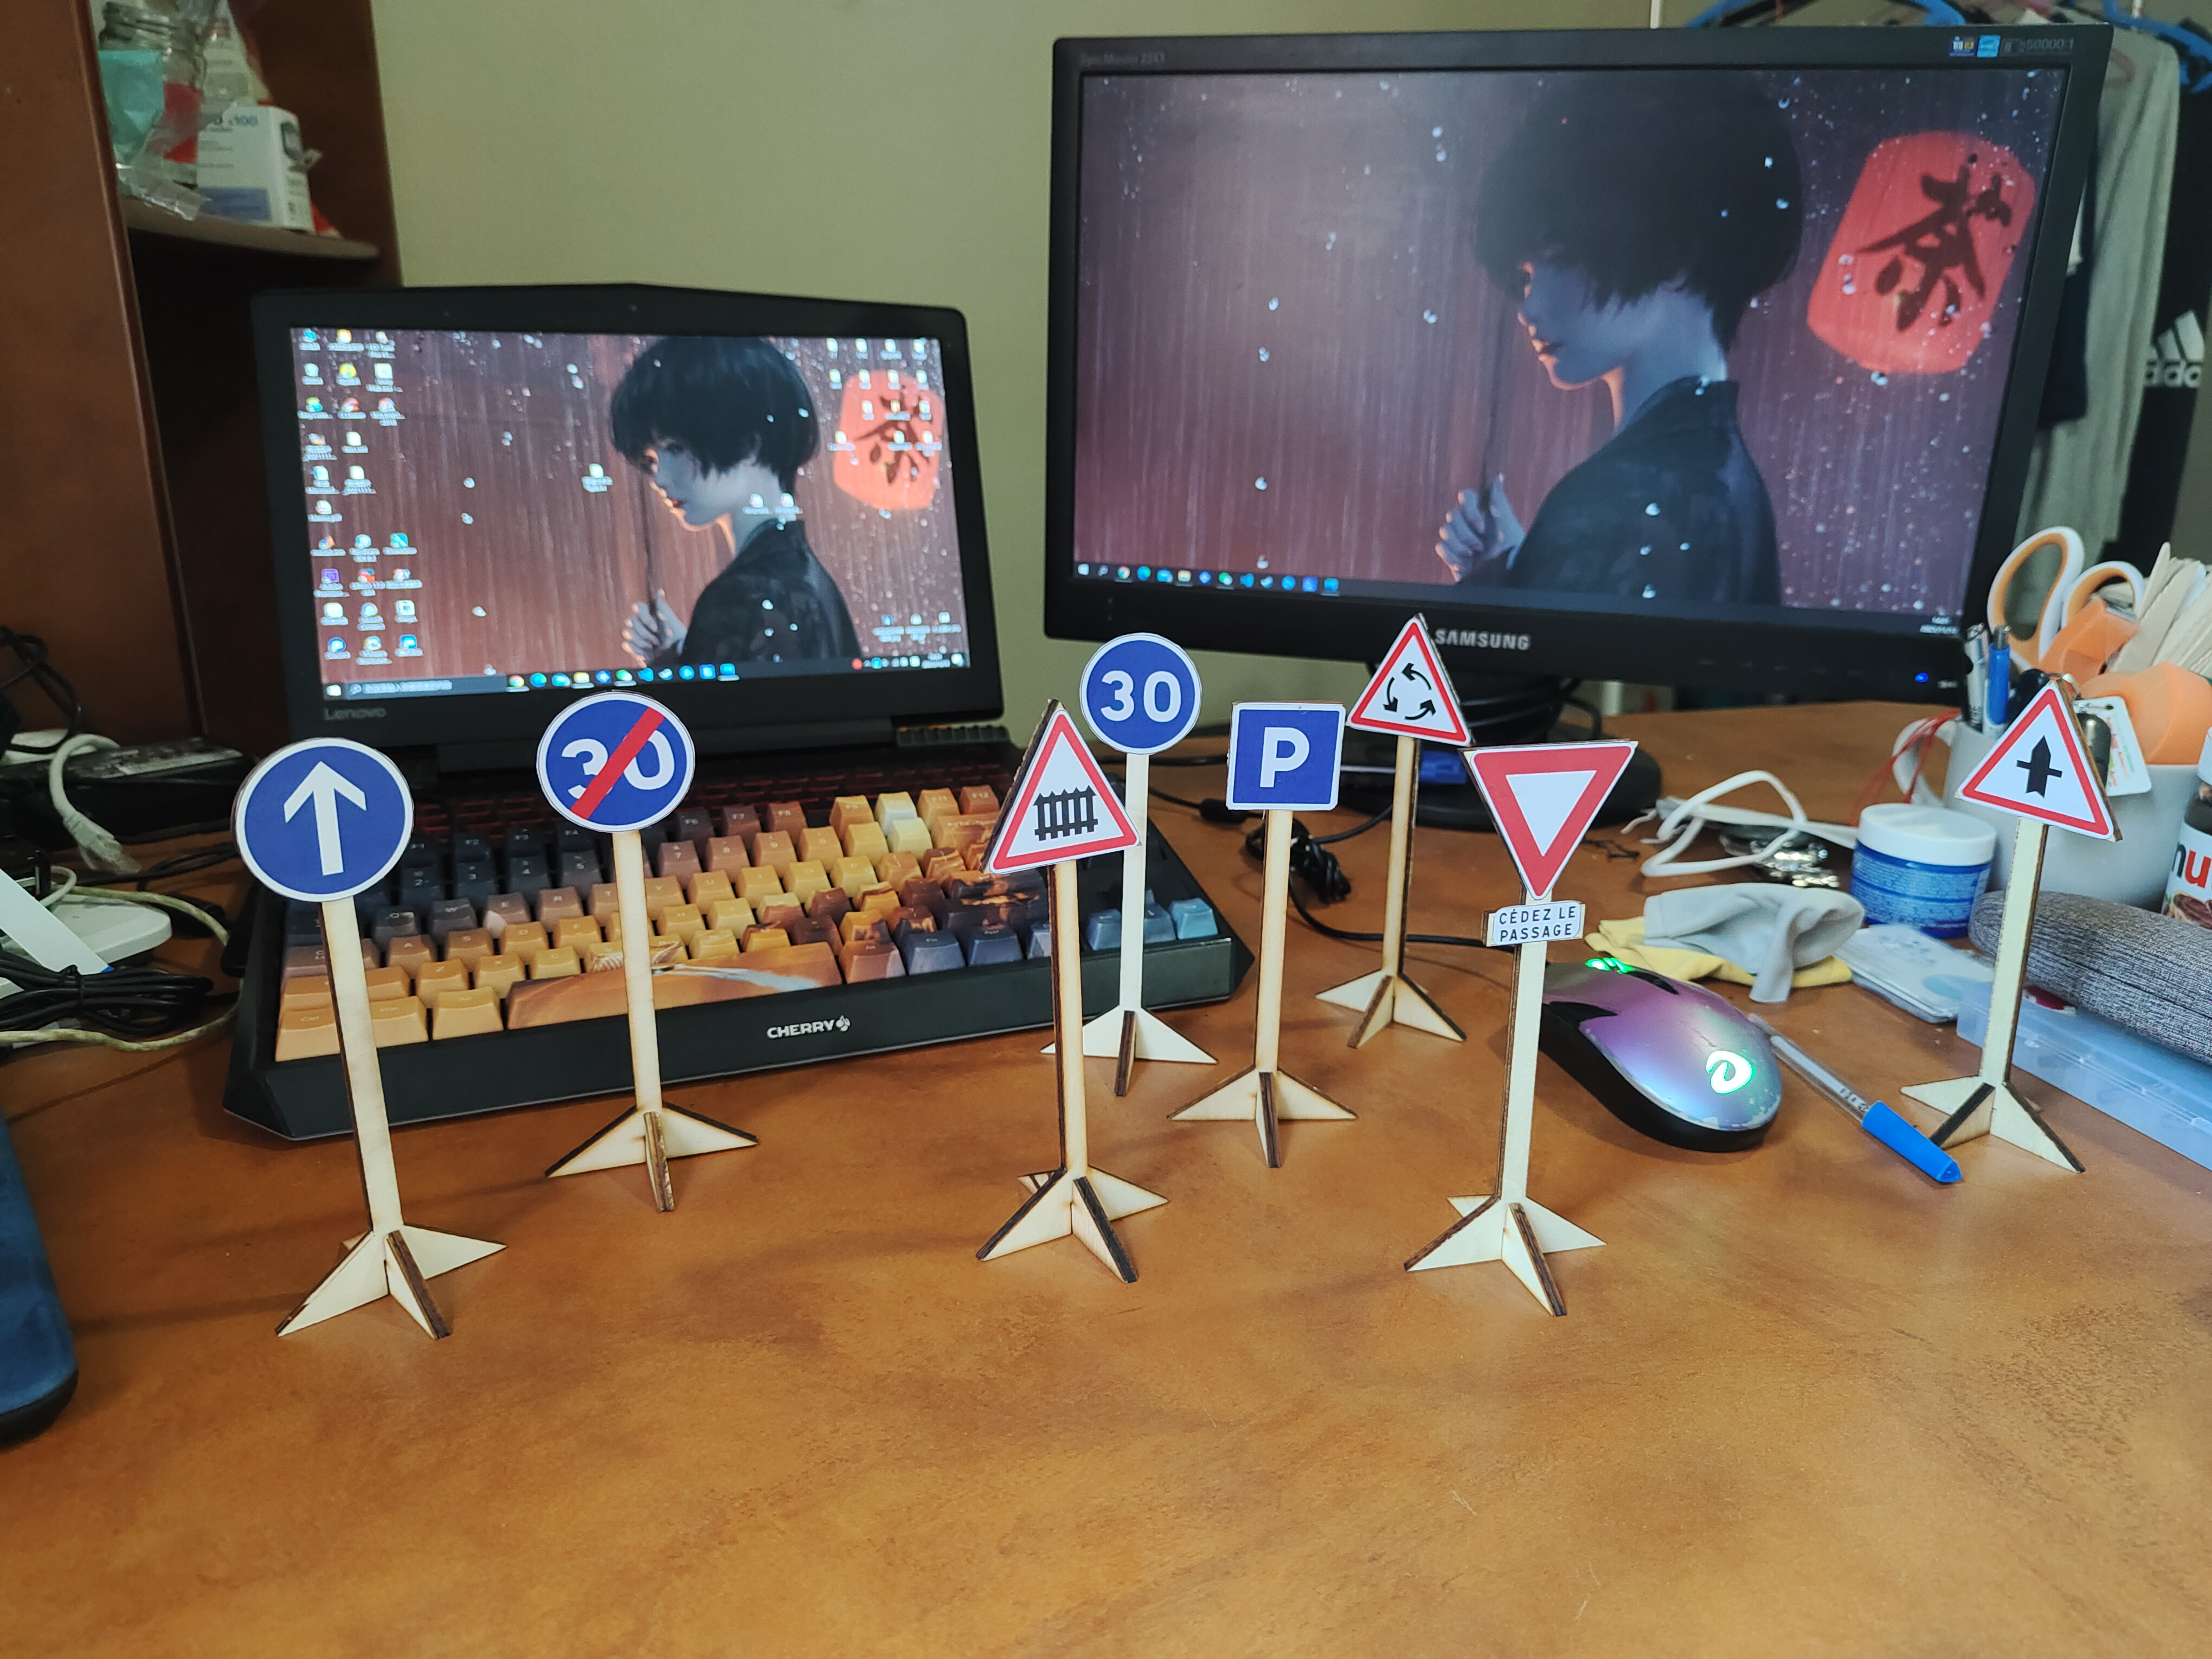P: (1223, 694, 1341, 816)
ban: (535, 680, 702, 835)
cycle: (1348, 622, 1467, 737)
first: (1958, 688, 2116, 840)
second: (1460, 739, 1634, 948)
straight: (232, 741, 421, 906)
thirty: (1082, 634, 1197, 742)
train: (989, 711, 1141, 857)
